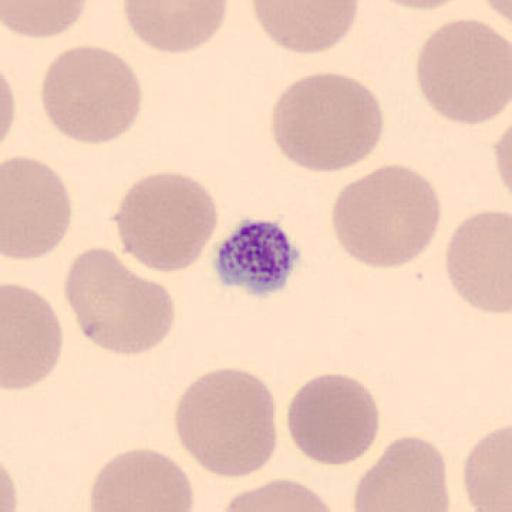Platelet: (210, 215, 304, 297)
RBC: (63, 247, 177, 357), (329, 163, 442, 270), (270, 70, 386, 174), (173, 366, 278, 479), (113, 170, 218, 274), (40, 44, 142, 146), (415, 17, 511, 125), (286, 372, 381, 467), (352, 433, 452, 512), (2, 155, 73, 261), (445, 210, 512, 316), (88, 447, 195, 512), (2, 282, 65, 392), (250, 0, 360, 55), (122, 0, 230, 55), (462, 423, 512, 512), (218, 476, 340, 512), (2, 0, 89, 39), (490, 119, 512, 201), (0, 66, 18, 144), (493, 121, 512, 194), (0, 457, 20, 512), (374, 0, 464, 10), (480, 0, 512, 21)
